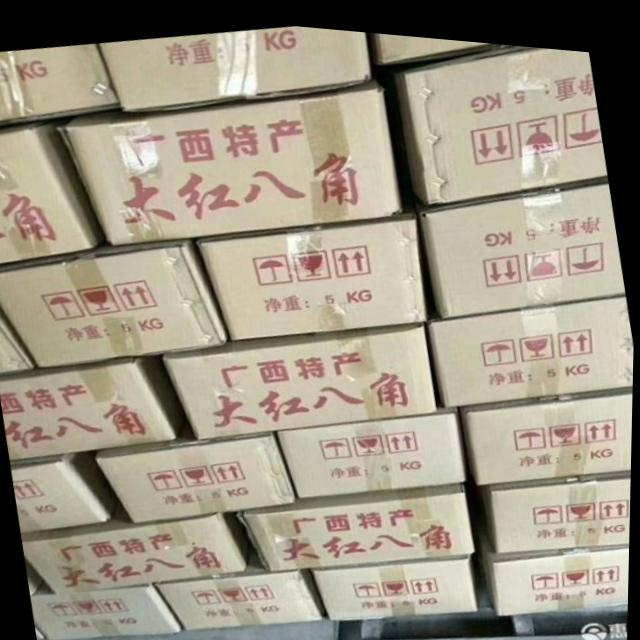box: (61, 74, 404, 244), (195, 179, 428, 339), (390, 36, 607, 199), (163, 314, 438, 436), (0, 236, 230, 368), (420, 168, 625, 311), (100, 21, 370, 113), (428, 282, 635, 401), (98, 414, 303, 521), (23, 499, 253, 594), (238, 475, 476, 566), (0, 350, 187, 459), (457, 377, 634, 479), (279, 401, 467, 494), (0, 116, 105, 264), (474, 459, 633, 542), (156, 557, 329, 628), (310, 546, 480, 613), (481, 533, 631, 605), (0, 43, 119, 125), (12, 448, 118, 533), (33, 579, 186, 637), (372, 26, 501, 59), (0, 306, 37, 377)
